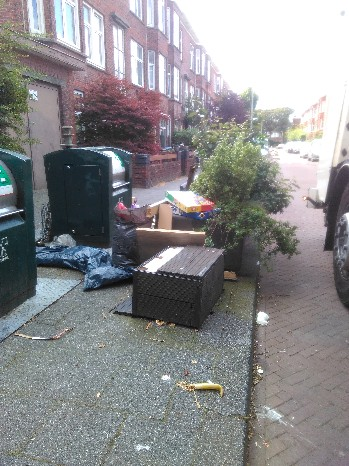Container: (53, 145, 120, 242), (0, 149, 36, 312)
Papier: (163, 187, 213, 242)
Rest: (138, 242, 223, 318), (40, 236, 115, 285), (108, 185, 147, 277), (129, 208, 160, 266)
